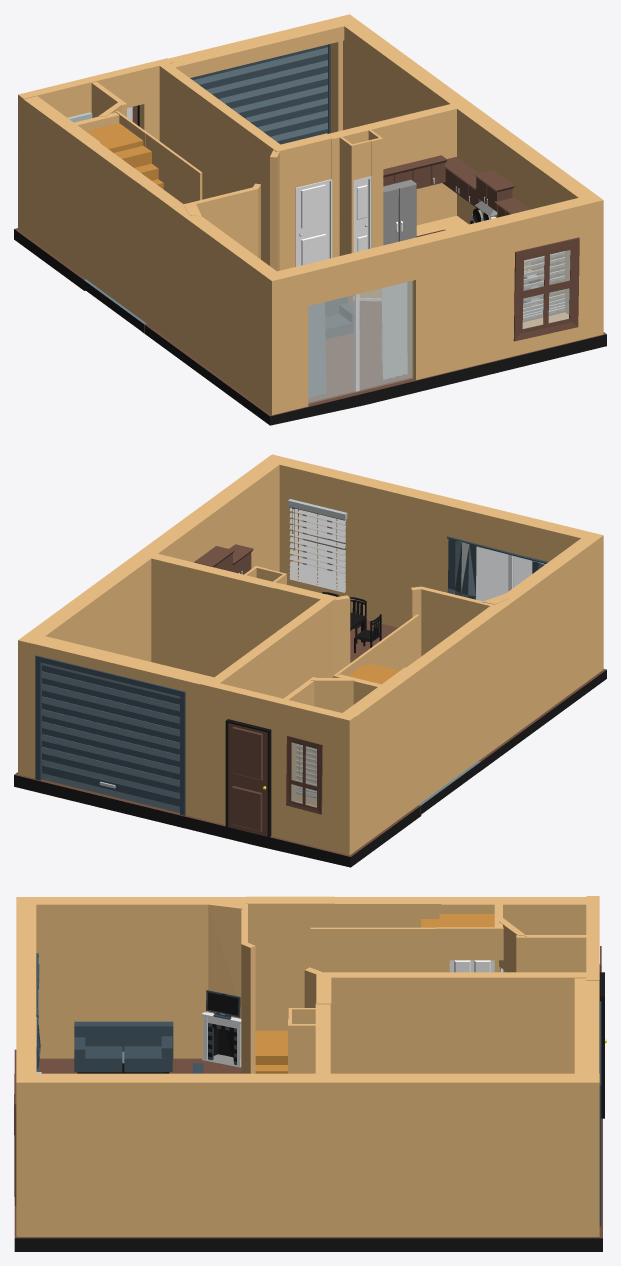
The model's file is kitchen.fbx.
3 views of the same model, one above another, from view 1: azimuth 30°, elevation 25°; view 2: azimuth 150°, elevation 25°; view 3: azimuth 270°, elevation 25° (orthographic). The views are drawn at different scales.
Visible parts, largest first — view 1: group1913084164, group2086210920, group495296466, group2080810550, group926669251, group307745849, group359096643, group1643865836, group1749033926, group9161348, group118787976, group1253599739 (+30 smaller); view 2: group495296466, group1913084164, group2086210920, group9161348, group359096643, group2080810550, group1749033926, group926669251, group951913594, group181332527, group786249837, group1904967002 (+30 smaller); view 3: group495296466, group926669251, group2086210920, group2080810550, group1253599739, group696643633, group359096643, group1749033926, group75932193, group623371997, group615572843, group1838945717 (+18 smaller).
Part boxes in pixels (left/top/right/bottom): group1913084164: left=407, top=194, right=603, bottom=379; group2086210920: left=173, top=205, right=285, bottom=415; group495296466: left=343, top=14, right=598, bottom=314; group2080810550: left=14, top=228, right=606, bottom=425; group926669251: left=159, top=63, right=286, bottom=270; group307745849: left=308, top=281, right=412, bottom=403; group359096643: left=23, top=96, right=100, bottom=279; group1643865836: left=277, top=240, right=417, bottom=412; group1749033926: left=85, top=142, right=145, bottom=316; group9161348: left=328, top=103, right=459, bottom=257; group118787976: left=513, top=237, right=579, bottom=341; group1253599739: left=133, top=176, right=183, bottom=338; group495296466: left=18, top=456, right=279, bottom=778; group1913084164: left=263, top=454, right=459, bottom=627; group2086210920: left=491, top=532, right=603, bottom=731; group9161348: left=149, top=553, right=280, bottom=677; group359096643: left=343, top=667, right=418, bottom=850; group2080810550: left=14, top=620, right=606, bottom=867; group1749033926: left=406, top=633, right=469, bottom=804; group926669251: left=210, top=594, right=337, bottom=698; group951913594: left=42, top=696, right=179, bottom=767; group181332527: left=200, top=680, right=274, bottom=824; group786249837: left=269, top=697, right=327, bottom=848; group1904967002: left=225, top=719, right=271, bottom=837; group495296466: left=18, top=1073, right=599, bottom=1236; group926669251: left=316, top=972, right=586, bottom=1073; group2086210920: left=16, top=897, right=244, bottom=1058; group2080810550: left=14, top=1049, right=602, bottom=1251; group1253599739: left=245, top=896, right=334, bottom=1030; group696643633: left=74, top=1021, right=173, bottom=1073; group359096643: left=441, top=897, right=586, bottom=934; group1749033926: left=324, top=897, right=445, bottom=927; group75932193: left=362, top=927, right=444, bottom=972; group623371997: left=208, top=899, right=243, bottom=1018; group615572843: left=516, top=935, right=586, bottom=972; group1838945717: left=574, top=978, right=599, bottom=1078.
Bounding box in the file's own units: 271 × 113 × 359.
